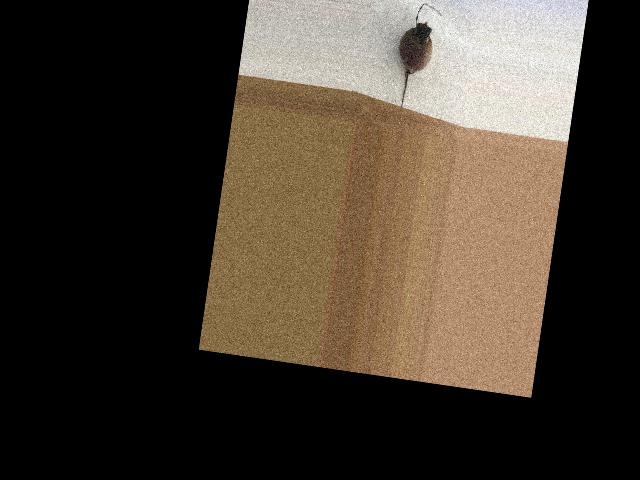beet: (390, 1, 442, 113)
